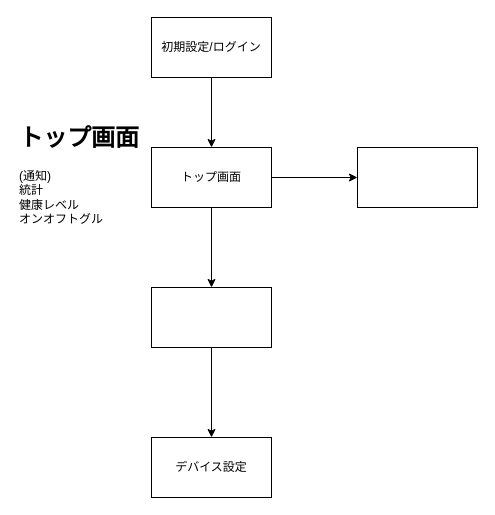
Image size: 495x515. Some labels were removed from this diagram. Each missing label, with the centre of its shape:
スケジューラー: the point at 417,177
設定: the point at 211,317
